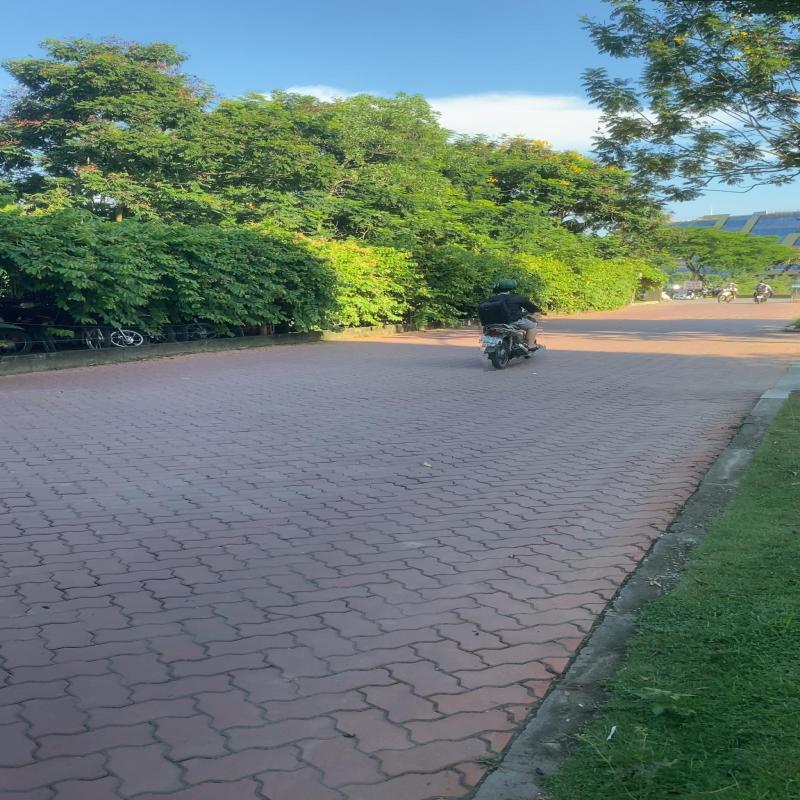helmet: (497, 278, 520, 292)
licenseplate: (478, 336, 501, 344)
motorcyclist: (474, 277, 544, 370)
